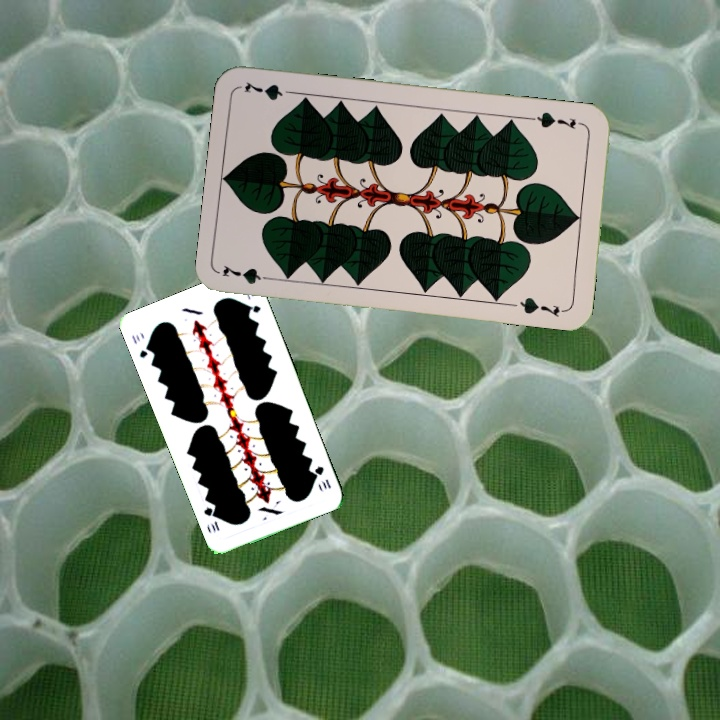G10: (127, 330, 154, 361), (310, 462, 334, 491)
G7: (219, 261, 278, 287), (528, 107, 587, 132)
